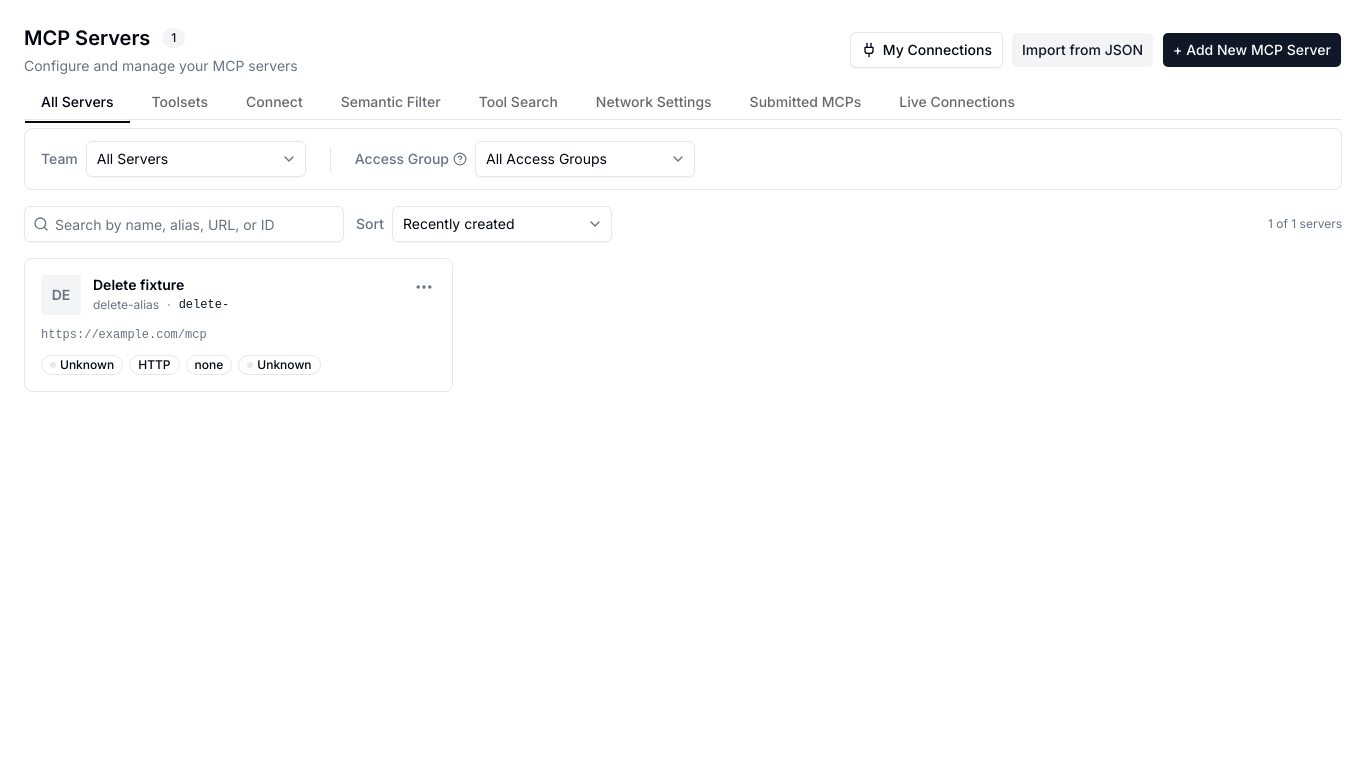
it: MCPServers › preserves delete confirmation on cancel
Click the button named "Server actions". click: (424, 287)
box: [408,271,440,303]
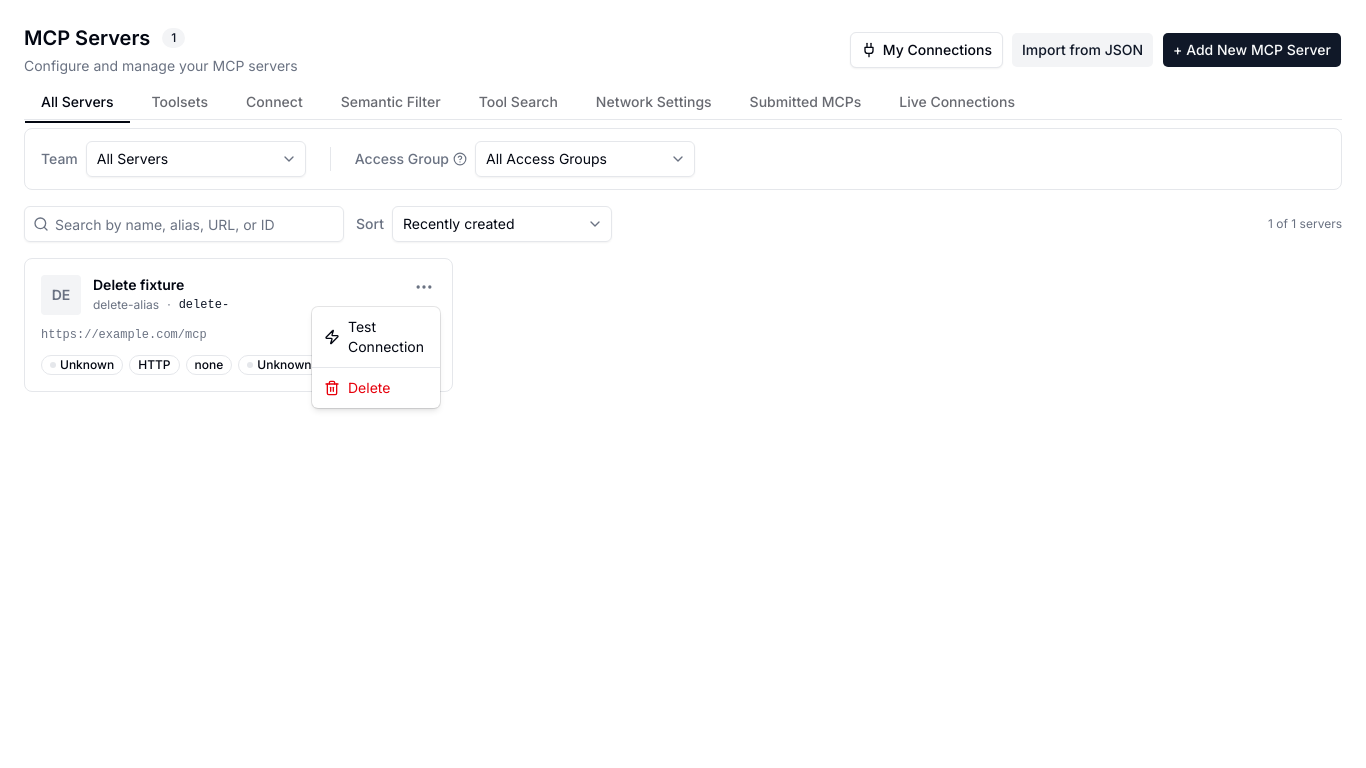
Click the menu item "Delete". click: (357, 388)
box: [324,379,390,396]
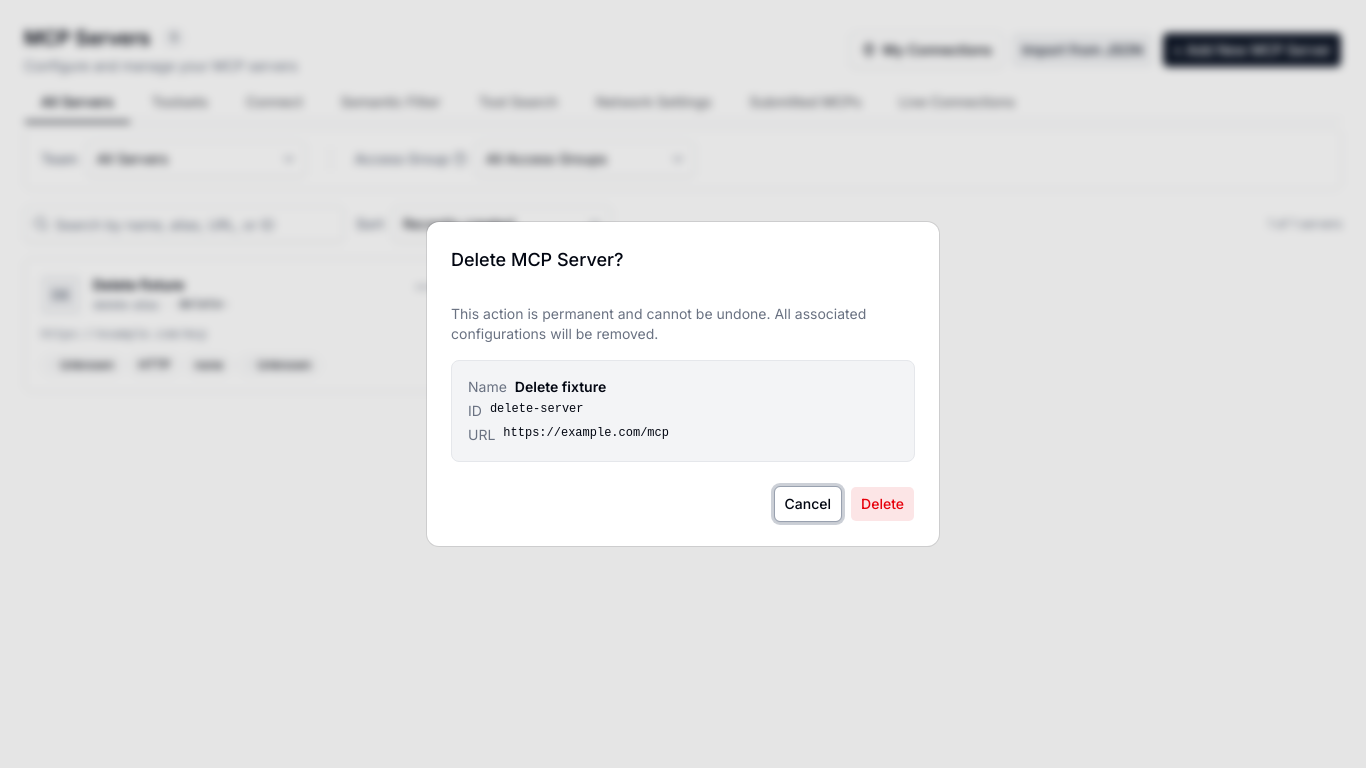
Check: the text "delete-server" is shown, box [490,401,584,421]
Check: the text "Delete fixture" is shown, box [515,377,606,397]
Check: the text "https://example.com/mcp" is shown, box [503,425,669,445]
Click the button "Cancel". click: (808, 504)
box: [774,486,842,522]
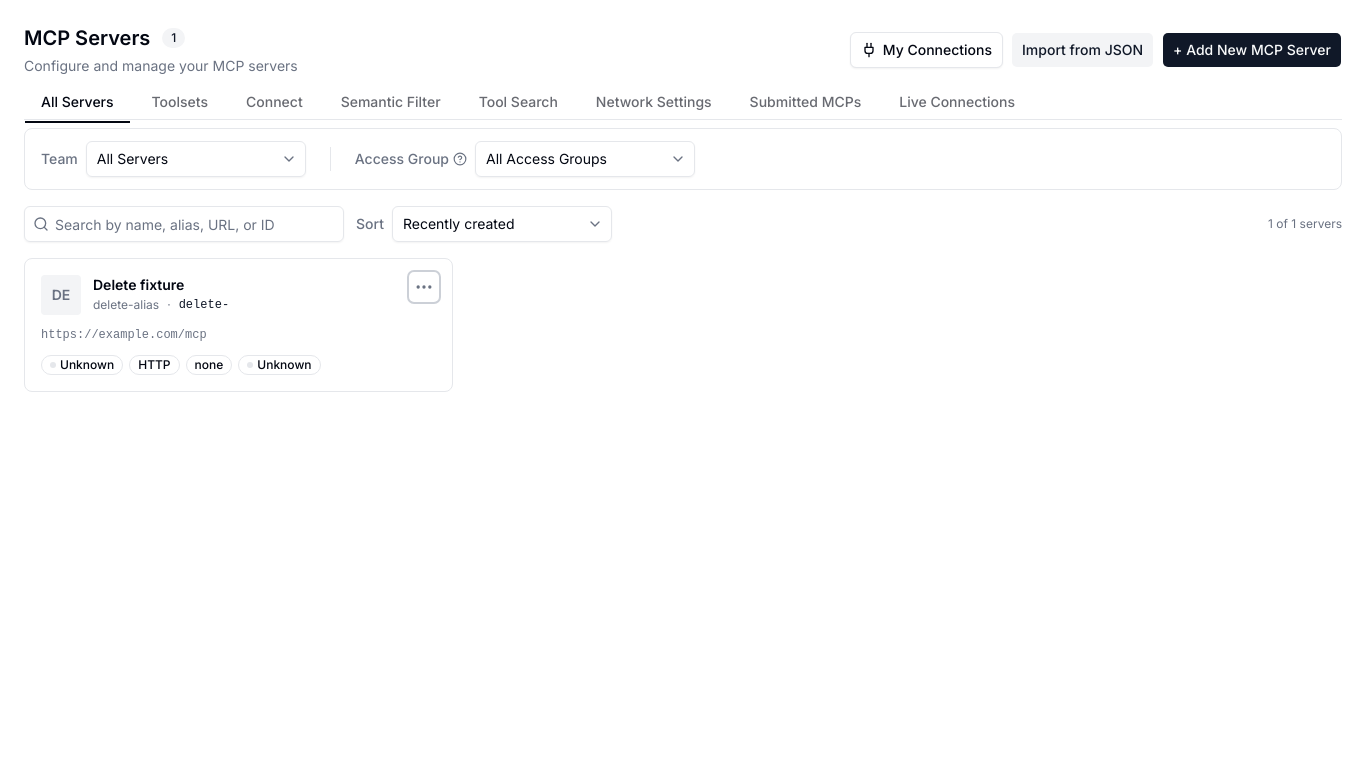
Check: the dialog is gone
